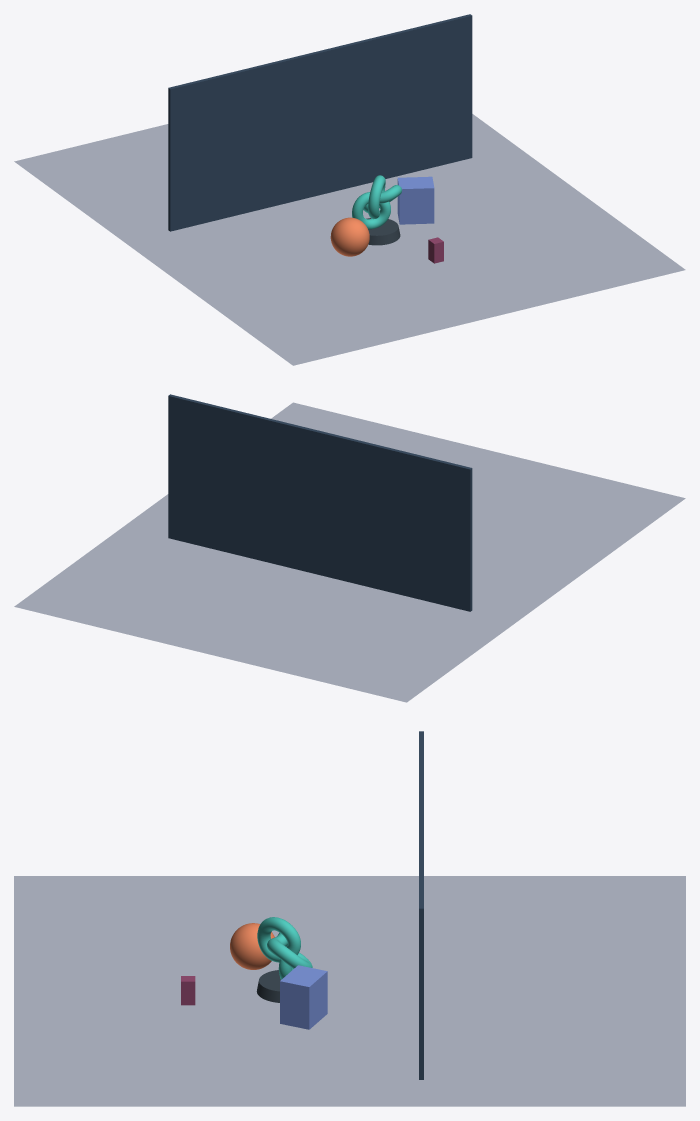
Rendered from studio-eclaire.glb.
3 renders of one model, top to bottom at view 1: azimuth 30°, elevation 25°; view 2: azimuth 150°, elevation 25°; view 3: azimuth 270°, elevation 25°, orthographic. The views are drawn at different scales.
Visible parts, largest first — view 1: studio_floor, studio_backdrop, satin_blue_block, glazed_torus_knot, matte_clay_sphere, studio_plinth; view 2: studio_floor, studio_backdrop; view 3: studio_floor, satin_blue_block, glazed_torus_knot, studio_backdrop, matte_clay_sphere, studio_plinth.
Part boxes in pixels (bbox=[...]): studio_floor: bbox=[14, 114, 685, 365]; studio_backdrop: bbox=[168, 14, 472, 231]; satin_blue_block: bbox=[397, 176, 434, 224]; glazed_torus_knot: bbox=[352, 175, 401, 229]; matte_clay_sphere: bbox=[330, 217, 369, 256]; studio_plinth: bbox=[366, 218, 400, 245]; studio_floor: bbox=[14, 402, 685, 702]; studio_backdrop: bbox=[168, 394, 472, 611]; studio_floor: bbox=[14, 876, 685, 1106]; satin_blue_block: bbox=[280, 965, 327, 1029]; glazed_torus_knot: bbox=[257, 917, 312, 979]; studio_backdrop: bbox=[419, 731, 423, 1079]; matte_clay_sphere: bbox=[230, 923, 274, 969]; studio_plinth: bbox=[256, 970, 280, 1002].
Bounding box in the file's own units: 13 × 4.6 × 16.
